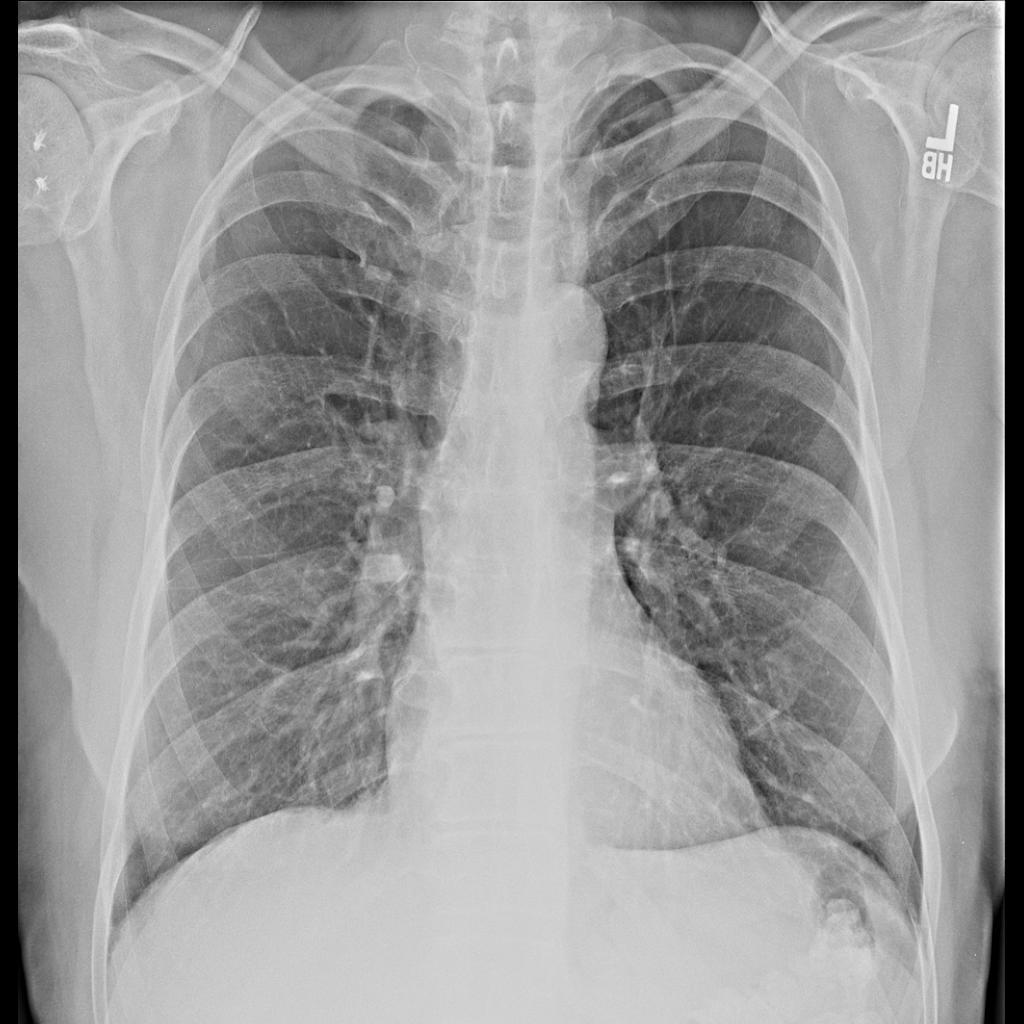Nodule: (336, 414, 424, 511)
